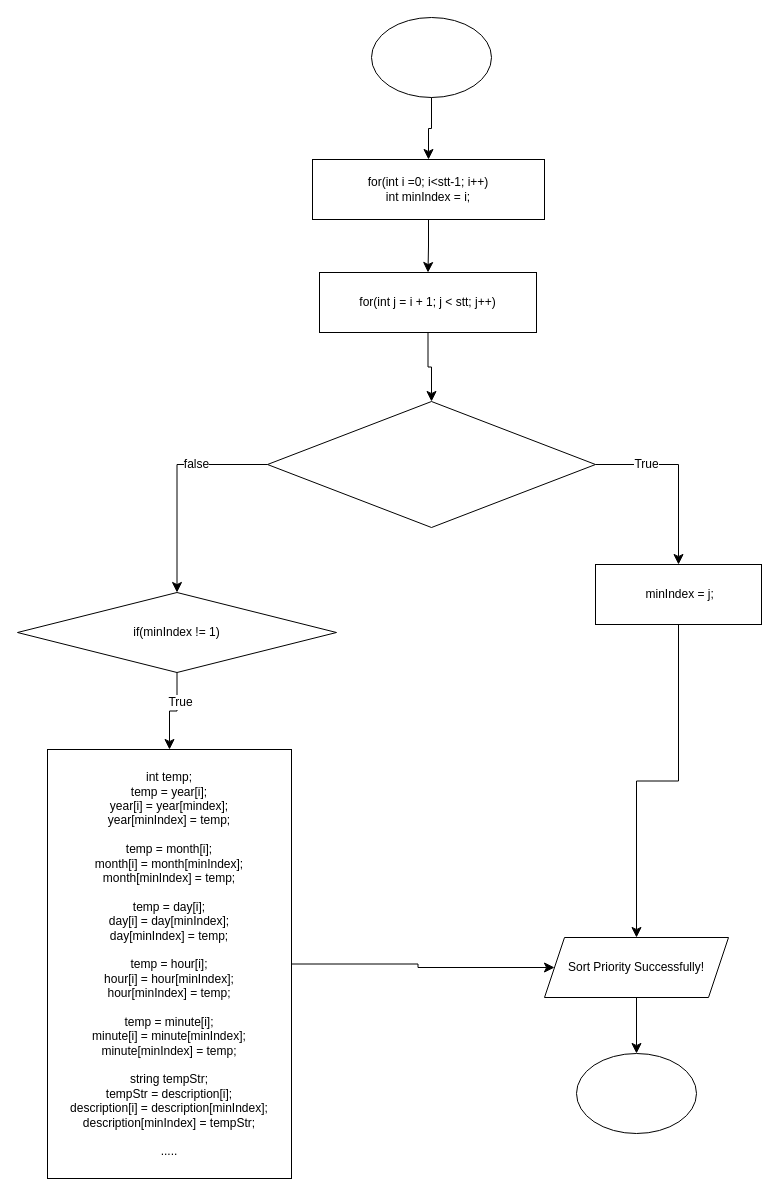
This 779x1196 diagram has some shape labels left out. The shapes that lost their labels are listed below. From the top down, each one's centre as x and y in pixels, then its label:
At point (431, 57): "BD".
At point (431, 464): "if (priorityValue(priority[i]) < priorityValue(priority[minIndex]))".
At point (636, 1093): "KT".
